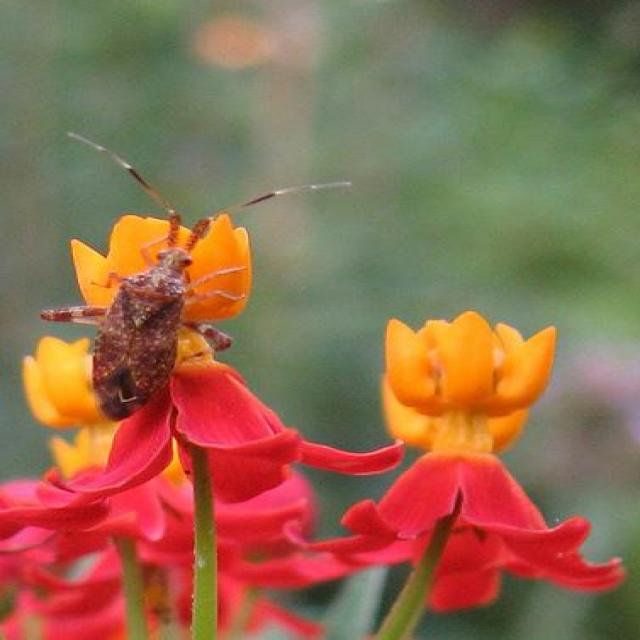Miridae-Adult-: (40, 115, 309, 422)
